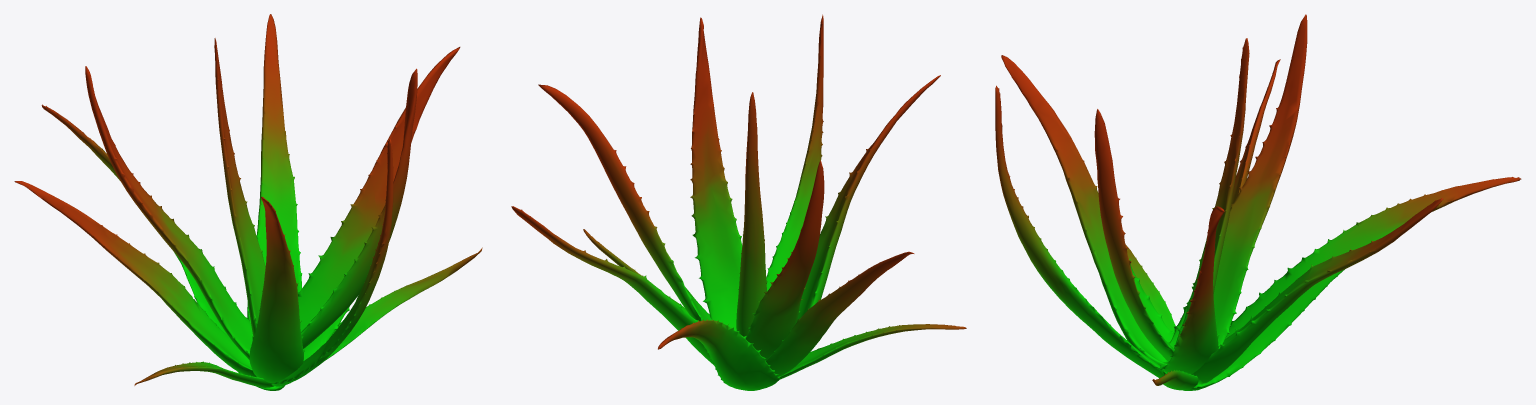
File: Aloe Vera_LOD2_Var3_ve4tbbrha.fbx
3 views of the same model, side by side, from view 1: azimuth 30°, elevation 25°; view 2: azimuth 150°, elevation 25°; view 3: azimuth 270°, elevation 25° (orthographic). The views are drawn at different scales.
Parts seen in each view (by area): view 1: _h721_Var3_LOD2; view 2: _h721_Var3_LOD2; view 3: _h721_Var3_LOD2.
Boxes of the visible parts, x1,y1,x2,y2 form: _h721_Var3_LOD2: (14, 14, 482, 390); _h721_Var3_LOD2: (511, 14, 966, 390); _h721_Var3_LOD2: (995, 14, 1521, 390).
Bounding box in the file's own units: 52.85 × 40.37 × 57.11.
